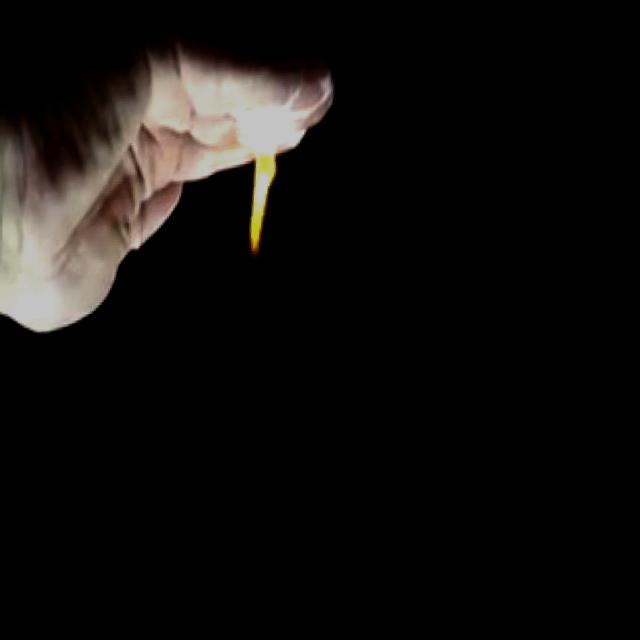helmet: (232, 104, 296, 265)
